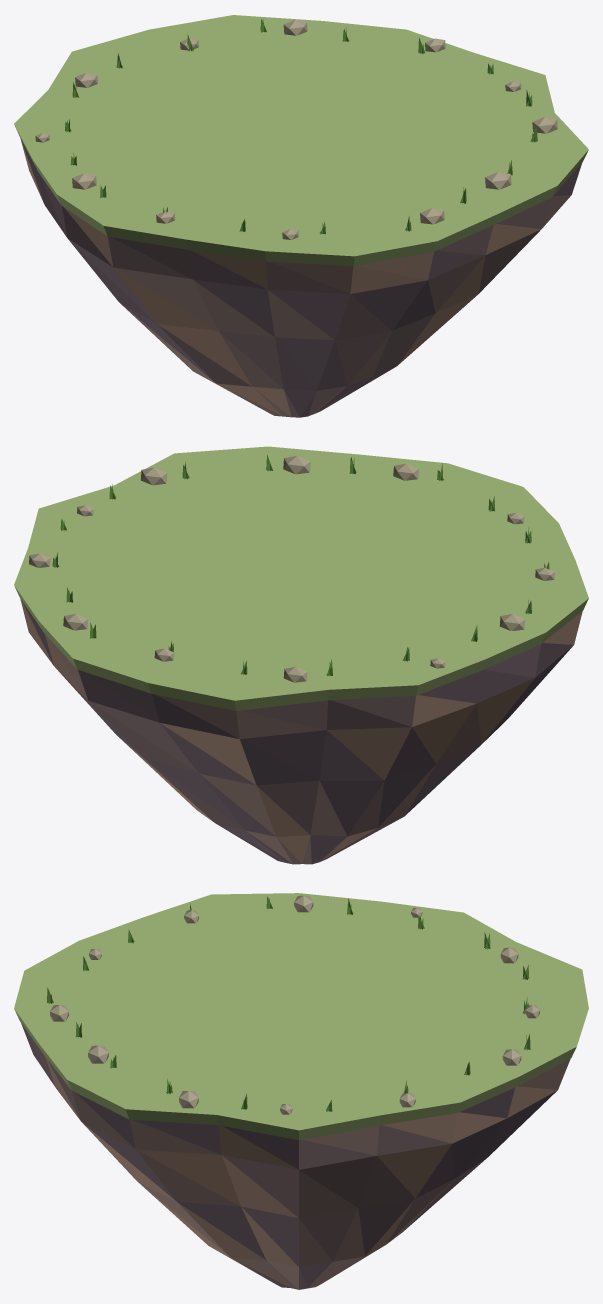
File: island_base_03.glb
3 renders of one model, top to bottom at view 1: azimuth 30°, elevation 25°; view 2: azimuth 150°, elevation 25°; view 3: azimuth 270°, elevation 25°, orthographic. The views are drawn at different scales.
Visible parts, largest first — view 1: island_base_03; view 2: island_base_03; view 3: island_base_03.
Boxes of the visible parts, x1=… form: island_base_03: x1=14, y1=15, x2=588, y2=417; island_base_03: x1=14, y1=446, x2=588, y2=864; island_base_03: x1=14, y1=893, x2=588, y2=1289.
Size of the model in its own units: 9.07 by 5.08 by 9.29.
